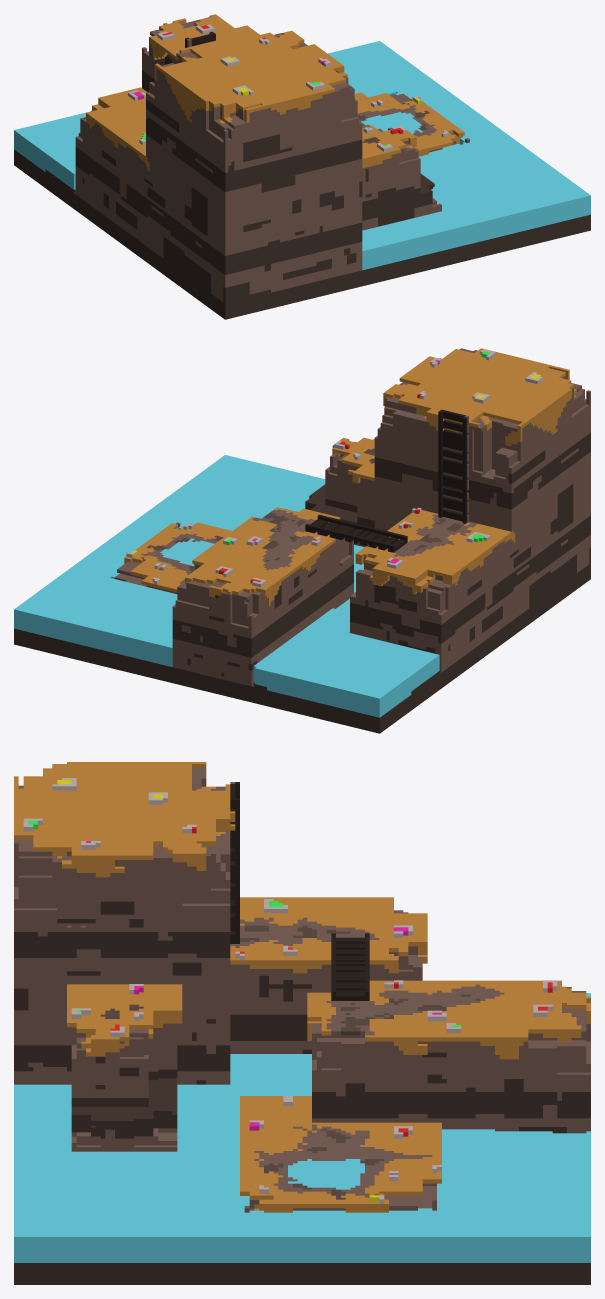
The model's file is Isla-Del-Verano-7.obj.
3 renders of one model, top to bottom at view 1: azimuth 30°, elevation 25°; view 2: azimuth 150°, elevation 25°; view 3: azimuth 270°, elevation 25°, orthographic. The views are drawn at different scales.
Size of the model in its own units: 12 by 6.6 by 12.
1 material, 1 textured.
